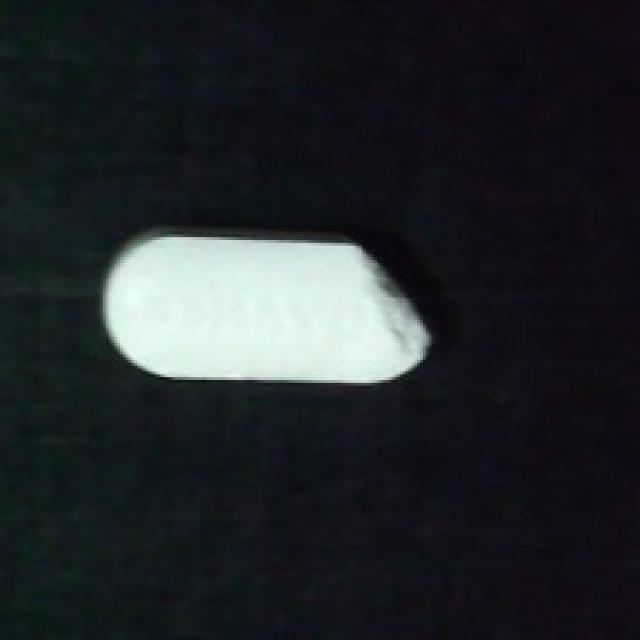defected: (97, 220, 443, 397)
